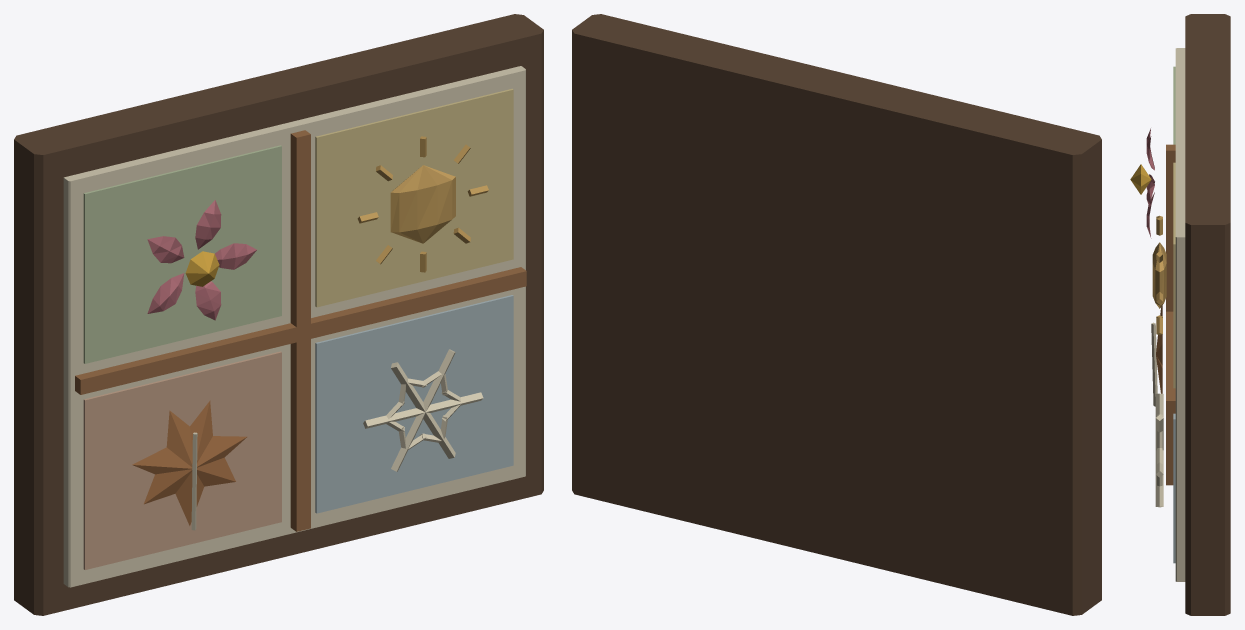
File: decor_season_frame.glb
3 renders of one model, left to right at view 1: azimuth 30°, elevation 25°; view 2: azimuth 150°, elevation 25°; view 3: azimuth 270°, elevation 25°, orthographic. The views are drawn at different scales.
Parts seen in each view (by area): view 1: geometry; view 2: geometry; view 3: geometry.
Part boxes in pixels (x1,y1,x2,y2): geometry: [14, 14, 543, 615]; geometry: [572, 14, 1101, 615]; geometry: [1130, 14, 1230, 615].
Size of the model in its own units: 0.88 by 0.76 by 0.1769.
